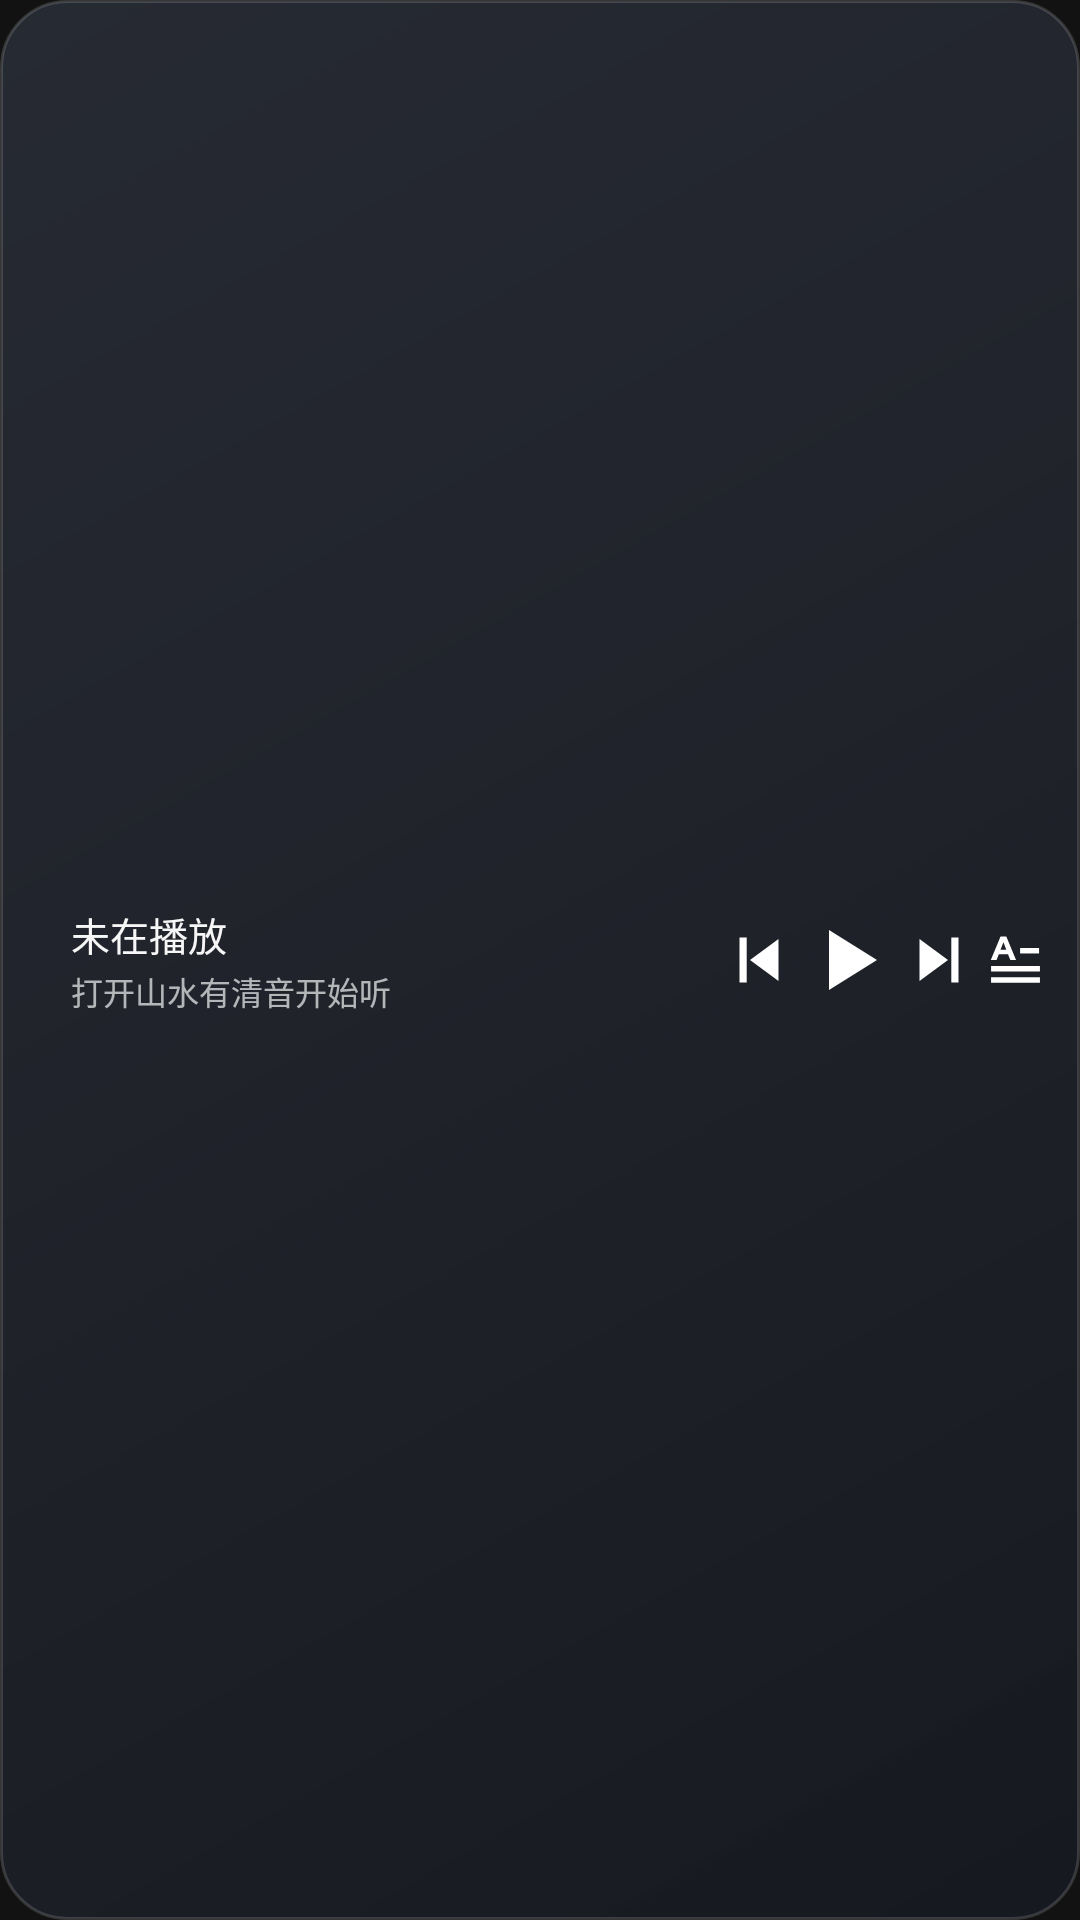

Screen size 1080px×1920px. Icon name, then its box in pixels as bbox=(x1, y1, x2, y2):
上一首: bbox=(739, 937, 779, 983)
下一首: bbox=(919, 937, 959, 983)
播放或暂停: bbox=(829, 930, 877, 990)
显示或隐藏歌词: bbox=(991, 936, 1040, 983)
